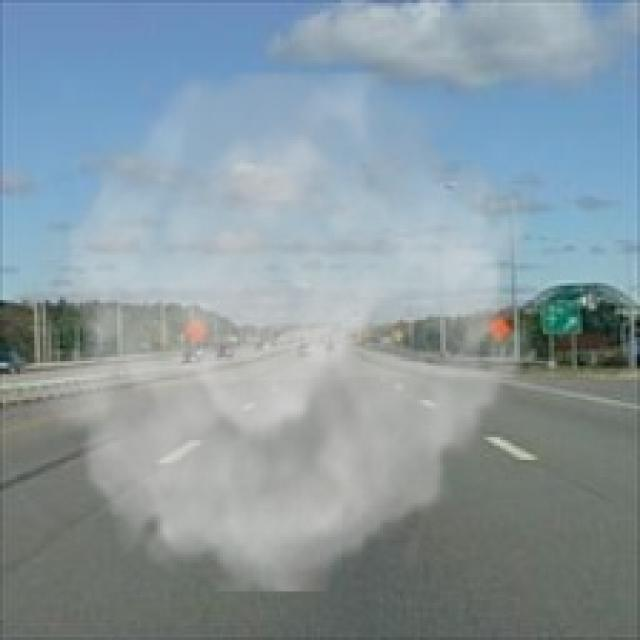Smoke: (22, 71, 554, 592)
